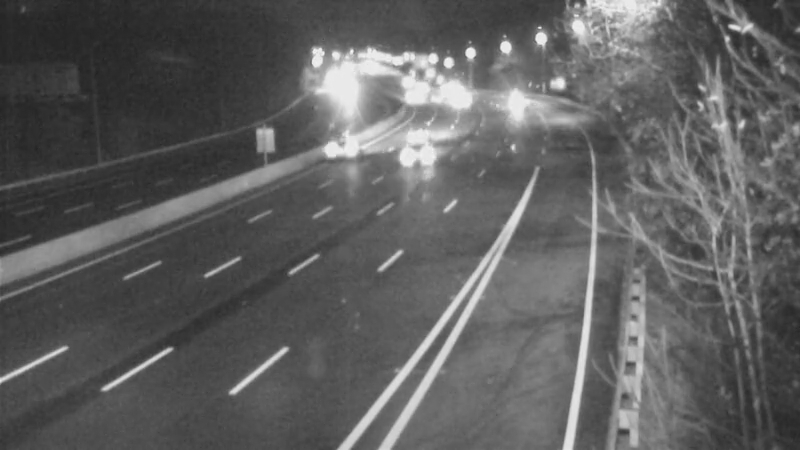vehicle: (386, 113, 466, 193), (389, 69, 439, 119), (410, 75, 460, 125), (433, 76, 483, 126), (497, 72, 547, 122), (388, 109, 438, 159), (310, 120, 360, 170)
